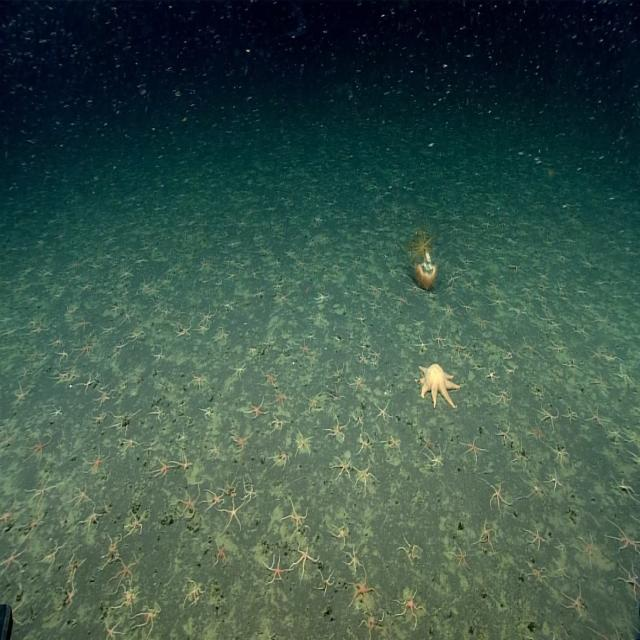brittle-stars: (608, 518, 640, 555), (348, 573, 377, 611), (28, 475, 58, 506), (113, 555, 139, 590), (396, 589, 421, 624), (293, 545, 318, 580), (617, 562, 640, 599), (282, 500, 308, 532), (584, 402, 612, 430), (176, 487, 200, 519), (484, 479, 508, 511), (136, 602, 160, 634), (561, 586, 586, 616), (24, 433, 50, 460), (362, 611, 387, 639), (578, 532, 600, 563), (354, 460, 376, 490), (266, 554, 288, 584), (477, 518, 497, 551), (86, 447, 110, 474), (223, 499, 243, 531), (183, 579, 205, 608), (524, 475, 545, 504), (0, 547, 24, 572), (615, 475, 637, 502), (461, 438, 484, 463), (102, 534, 121, 562), (327, 416, 349, 440), (118, 586, 140, 610), (402, 538, 422, 564), (537, 405, 558, 429), (112, 411, 136, 432), (84, 506, 104, 531), (333, 455, 353, 479), (272, 446, 292, 470), (452, 543, 469, 571), (0, 499, 17, 527), (127, 512, 145, 538), (318, 570, 336, 596), (246, 398, 267, 420), (528, 528, 547, 552), (71, 483, 90, 507), (513, 444, 532, 468), (204, 488, 225, 509), (527, 562, 547, 584), (104, 618, 124, 640), (221, 475, 241, 497), (547, 471, 566, 494), (344, 548, 362, 572), (274, 385, 292, 409), (231, 432, 250, 454), (528, 420, 546, 443), (14, 382, 32, 405), (26, 513, 44, 536), (491, 388, 511, 408), (297, 431, 313, 456), (154, 456, 174, 476), (332, 523, 350, 544), (64, 582, 78, 609), (612, 371, 630, 392), (214, 542, 228, 568), (96, 386, 114, 406), (175, 452, 193, 472), (592, 372, 610, 392), (308, 390, 324, 412), (348, 373, 366, 392), (76, 342, 95, 360), (426, 446, 443, 466), (333, 363, 348, 385), (122, 438, 140, 456), (375, 403, 392, 422), (79, 374, 95, 394), (384, 437, 402, 454), (550, 340, 568, 357), (496, 424, 511, 444), (434, 330, 449, 350), (242, 482, 257, 502), (190, 373, 207, 390), (452, 339, 470, 355), (26, 346, 44, 362), (484, 364, 499, 383), (554, 560, 569, 579), (173, 323, 191, 338), (563, 404, 577, 423), (232, 362, 248, 378), (459, 299, 475, 315), (272, 416, 288, 432), (474, 314, 490, 330), (74, 318, 90, 334), (487, 293, 504, 308), (263, 371, 278, 388), (554, 446, 568, 464), (150, 406, 165, 422), (152, 345, 164, 365), (353, 410, 365, 430), (220, 300, 237, 314), (358, 435, 370, 454), (93, 411, 108, 426), (444, 303, 458, 319), (202, 308, 216, 324), (394, 290, 408, 306), (123, 309, 137, 325), (129, 330, 145, 344), (236, 367, 250, 383), (172, 303, 186, 319), (508, 262, 524, 276), (556, 535, 568, 553), (216, 327, 230, 342), (201, 407, 215, 422), (416, 336, 429, 352), (315, 290, 329, 304), (197, 322, 211, 336), (368, 282, 382, 296), (58, 348, 71, 363), (422, 436, 434, 452), (502, 346, 514, 361), (119, 268, 132, 281), (357, 352, 369, 366), (296, 258, 308, 272), (300, 341, 312, 355), (448, 272, 459, 287), (52, 406, 64, 419), (104, 322, 116, 334), (284, 247, 296, 259), (228, 270, 240, 282), (372, 348, 382, 361), (250, 268, 260, 281), (178, 429, 187, 443)
